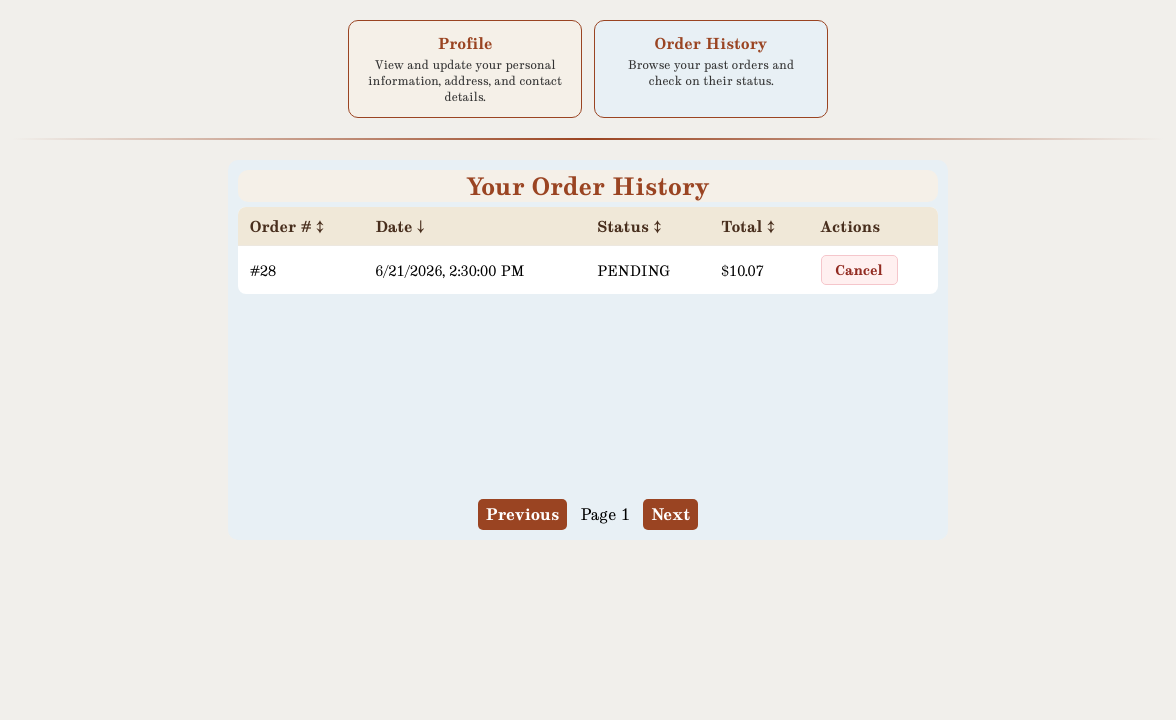
Test case: Order History Page › previous button loads previous page after navigating forward
Click the button "Next": (671, 514) [643,499,698,530]
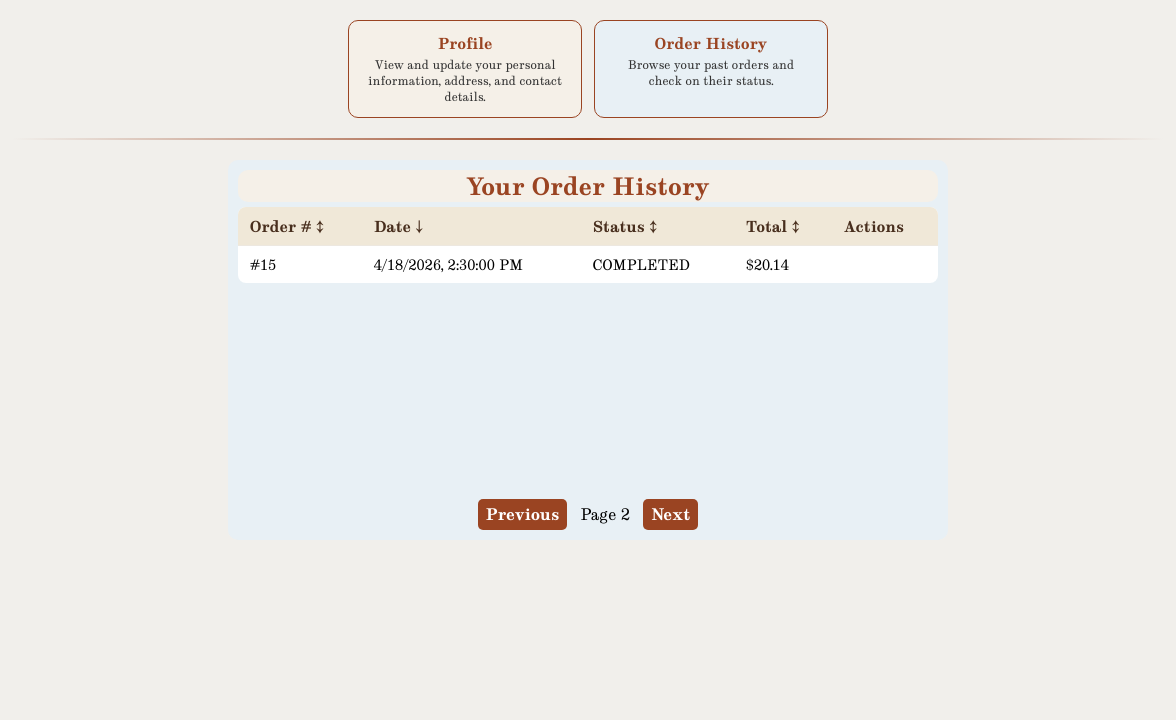
Click the button "Previous": (522, 514) [478,499,567,530]
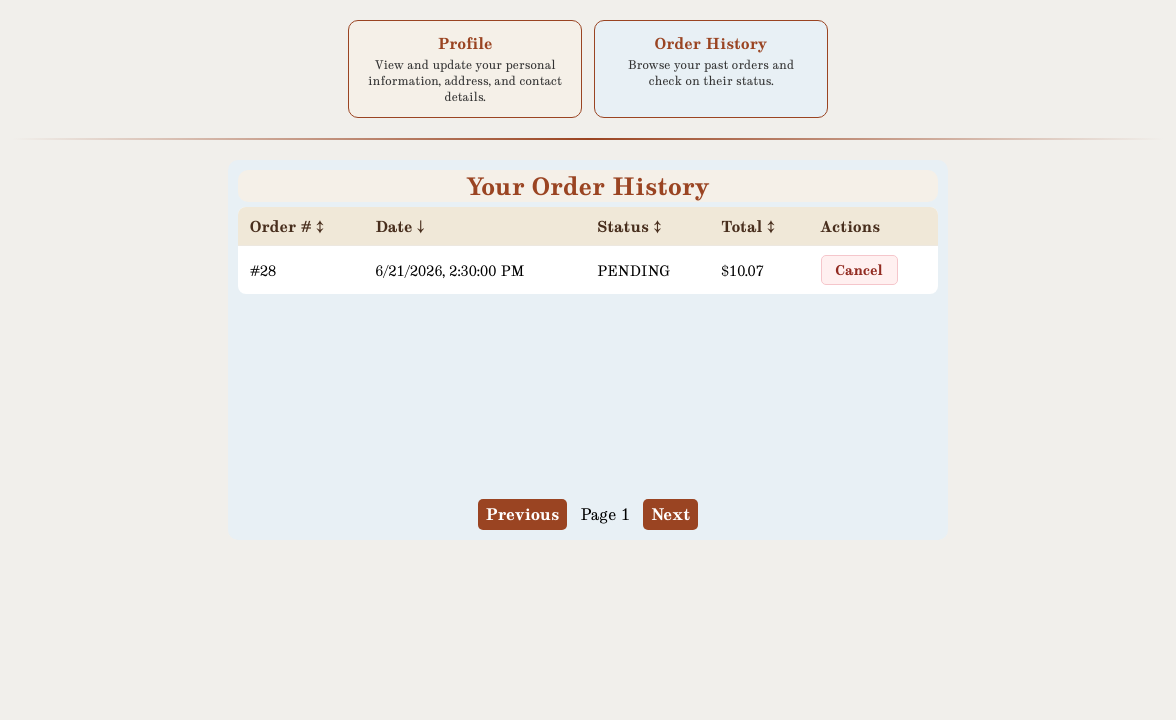
Expected: the text "Page 1" is shown, [580,504,630,525]
